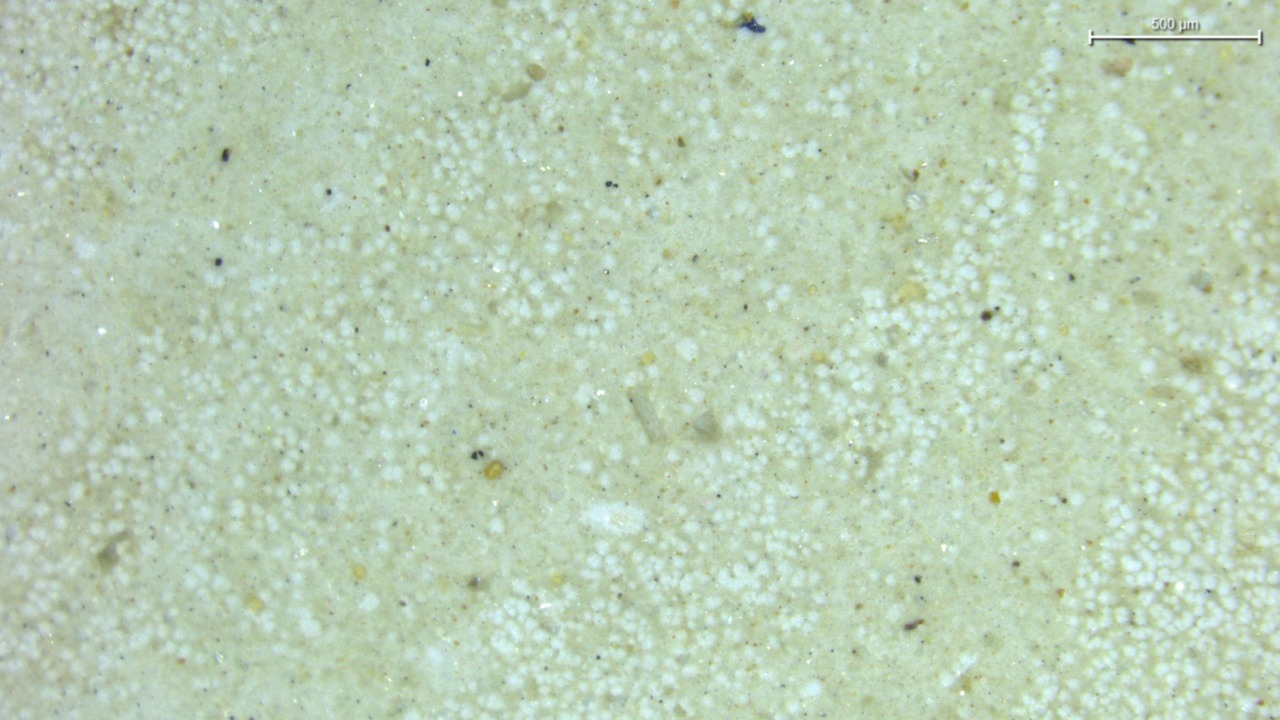microplastic_fragment: (627, 391, 664, 442)
